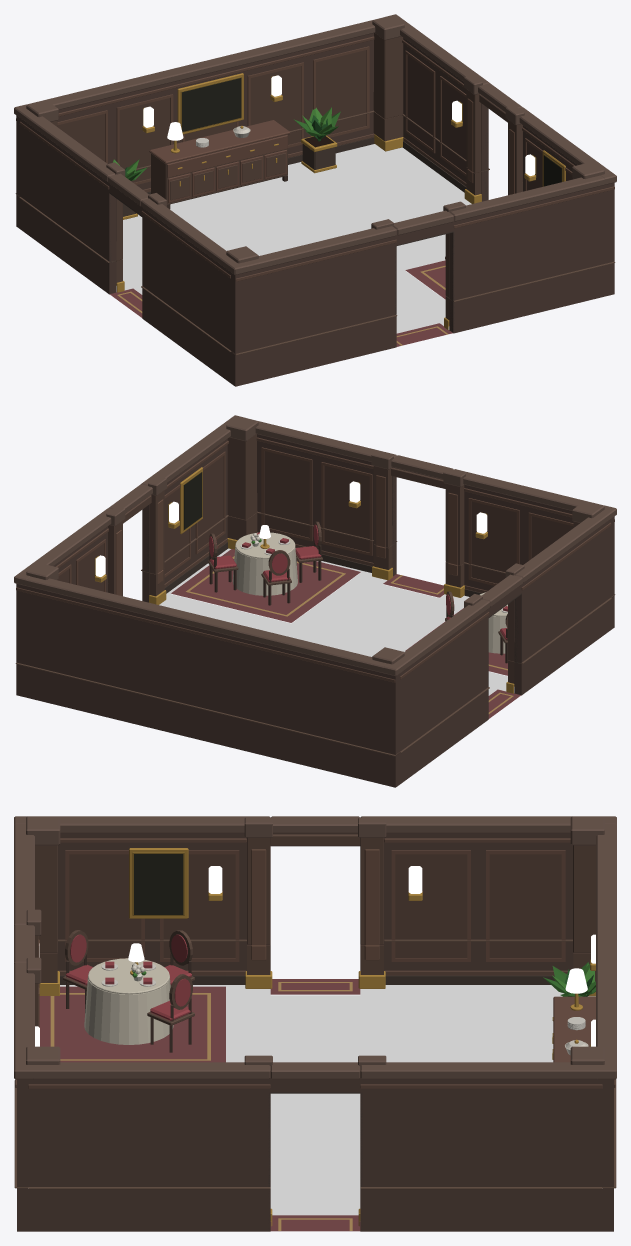
Rendered from dining.glb.
3 views of the same model, one above another, from view 1: azimuth 30°, elevation 25°; view 2: azimuth 150°, elevation 25°; view 3: azimuth 270°, elevation 25° (orthographic). The views are drawn at different scales.
Visible parts, largest first — view 1: static, W_north_0_up, floor, W_south_0_up, W_south_1_up, W_west_0_up, W_west_1_up, W_east_0_up, W_east_1_up; view 2: W_north_0_up, static, floor, W_south_1_up, W_south_0_up, W_west_0_up, W_west_1_up, W_east_1_up, W_east_0_up; view 3: static, floor, W_east_0_up, W_east_1_up, W_west_0_up, W_west_1_up, W_north_0_up, W_south_0_up, W_south_1_up.
Part boxes in pixels (x1,y1,x2,y2): static: (15,92,615,386); W_north_0_up: (14,15,404,196); floor: (110,144,471,346); W_south_0_up: (226,210,453,353); W_south_1_up: (443,162,616,300); W_west_0_up: (14,104,148,262); W_west_1_up: (141,193,246,350); W_east_0_up: (385,14,522,173); W_east_1_up: (505,105,616,195); W_north_0_up: (14,563,404,754); static: (15,493,615,787); floor: (159,548,520,718); W_south_1_up: (226,416,396,547); W_south_0_up: (391,455,616,597); W_west_0_up: (384,574,522,751); W_west_1_up: (505,505,616,662); W_east_1_up: (141,415,245,574); W_east_0_up: (14,484,152,596); static: (14,930,616,1231); floor: (39,979,595,1231); W_east_0_up: (270,1055,616,1186); W_east_1_up: (14,1055,272,1186); W_west_0_up: (270,816,616,945); W_west_1_up: (14,816,272,945); W_north_0_up: (570,816,616,1186); W_south_0_up: (14,816,60,987); W_south_1_up: (14,957,60,1186).
Size of the model in its own units: 8.08 by 2.48 by 8.08.
